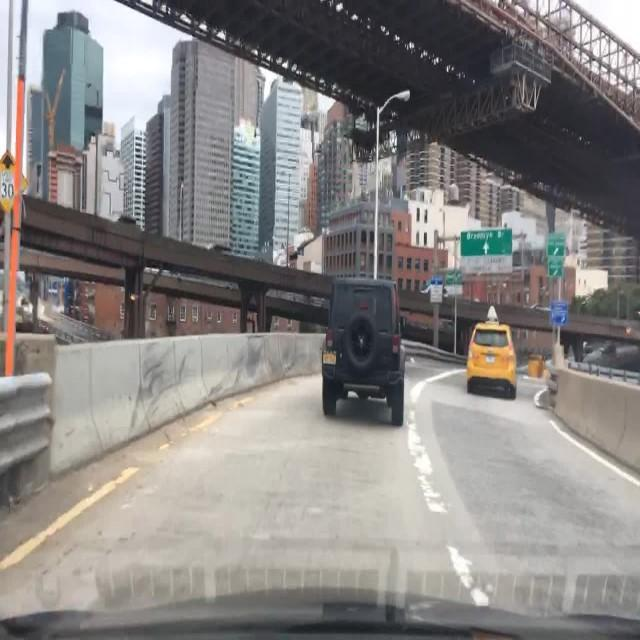normal: (321, 277, 406, 429), (464, 306, 523, 404)
